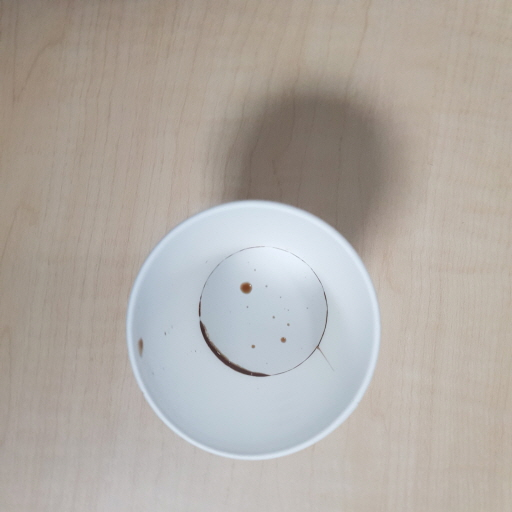Paper_1: (125, 198, 384, 463)
